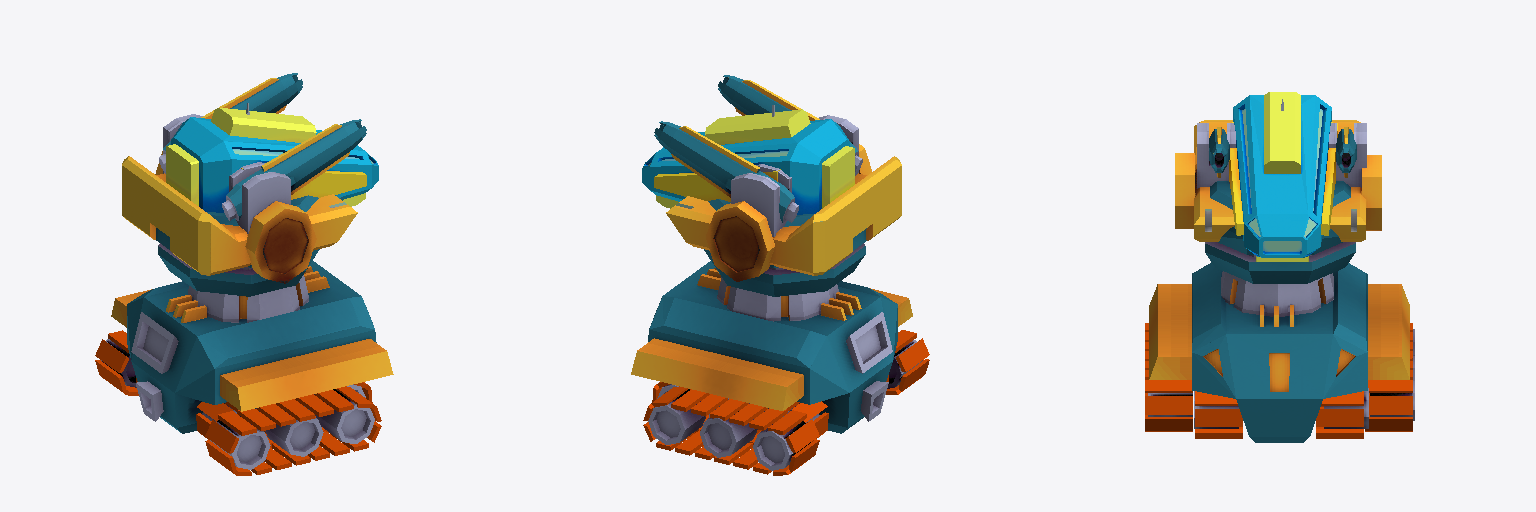
The picture shows the model from 3 angles: view 1: azimuth 30°, elevation 25°; view 2: azimuth 150°, elevation 25°; view 3: azimuth 270°, elevation 25°; orthographic projection.
Parts seen in each view (by area): view 1: Object008, Box020, Object014, Box018, Box019, Box017; view 2: Object008, Object014, Box019, Box018, Box020, Box016; view 3: Object008, Box020, Box019, Box016, Box017, Object014, Box009, Box018.
Part boxes in pixels (bbox=[...]): Object008: bbox=[111, 108, 393, 433]; Box020: bbox=[205, 386, 381, 475]; Object014: bbox=[159, 73, 366, 220]; Box018: bbox=[101, 339, 374, 469]; Box019: bbox=[95, 330, 138, 395]; Box017: bbox=[196, 382, 372, 447]; Object008: bbox=[631, 109, 912, 433]; Object014: bbox=[654, 75, 862, 222]; Box019: bbox=[643, 386, 819, 475]; Box018: bbox=[648, 340, 922, 470]; Box020: bbox=[886, 330, 929, 394]; Box016: bbox=[652, 382, 828, 444]; Object008: bbox=[1149, 92, 1409, 442]; Box020: bbox=[1145, 323, 1192, 431]; Box019: bbox=[1365, 323, 1412, 431]; Box016: bbox=[1316, 391, 1363, 438]; Box017: bbox=[1195, 391, 1242, 438]; Object014: bbox=[1209, 127, 1356, 177]; Box009: bbox=[1194, 388, 1368, 428]; Box018: bbox=[1148, 329, 1414, 420].
Bounding box in the file's own units: 65.77 × 86.08 × 68.55.
5 materials, 2 textured.